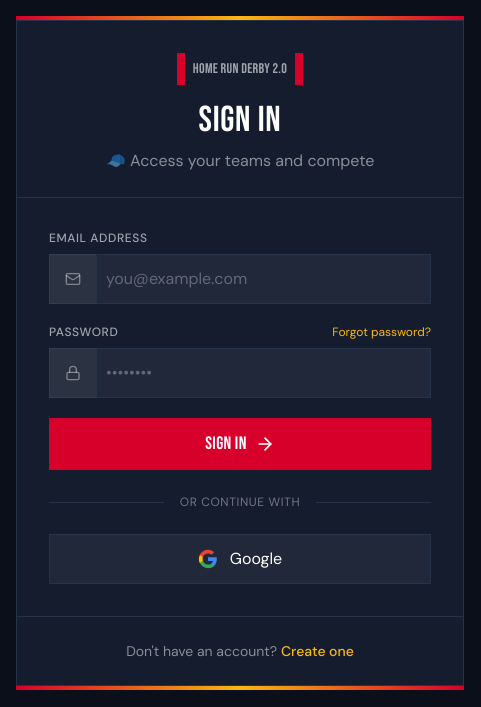
Scenario: Login Page › Loading State › disables form inputs while loading
The width and height of the screenshot is (481, 707).
Type "test@example.com" into the field labelled "Email Address" at point(240, 279), box left=49, top=254, right=431, bottom=304
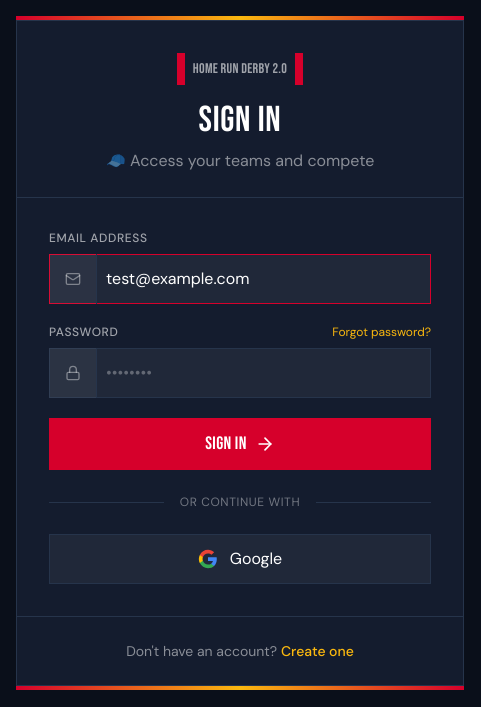
Type "password123" into the password field labelled "Password" at point(240, 373), box left=49, top=348, right=431, bottom=398
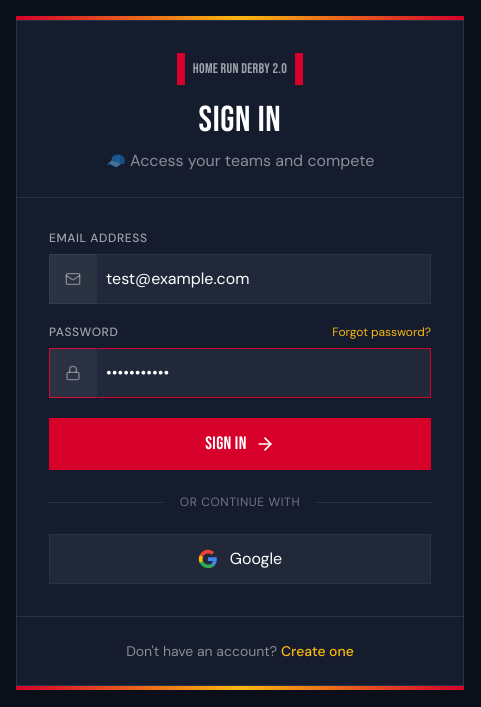
Click the button "SIGN IN" at point(240, 444), box left=49, top=418, right=431, bottom=470
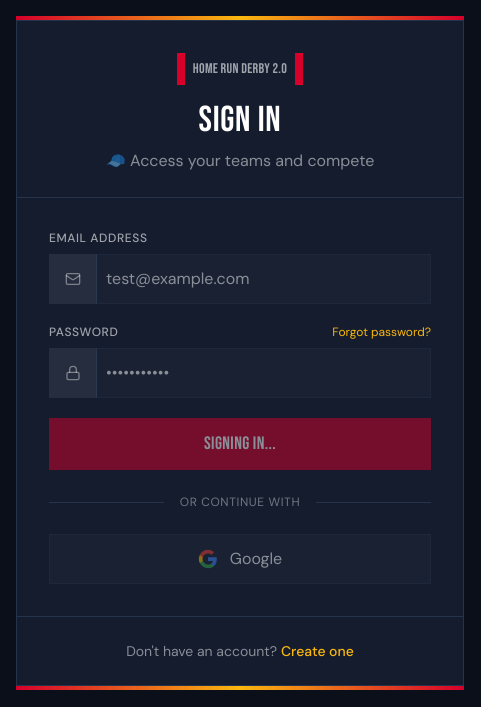
Now the button "SIGNING IN..." is disabled, box left=49, top=418, right=431, bottom=470
